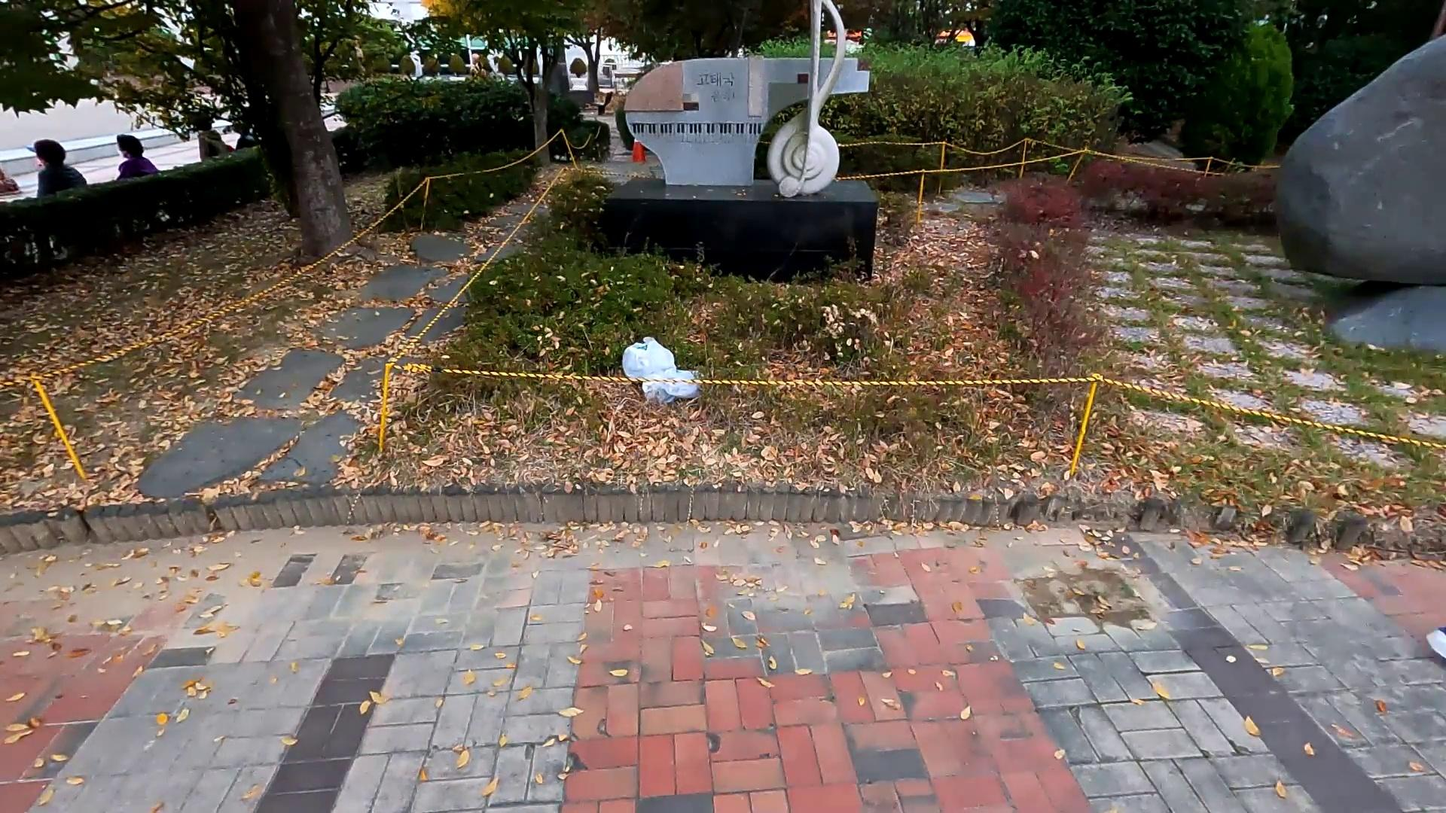person: (28, 132, 88, 203), (109, 130, 158, 182)
trash: (620, 331, 676, 393), (636, 365, 703, 406)
